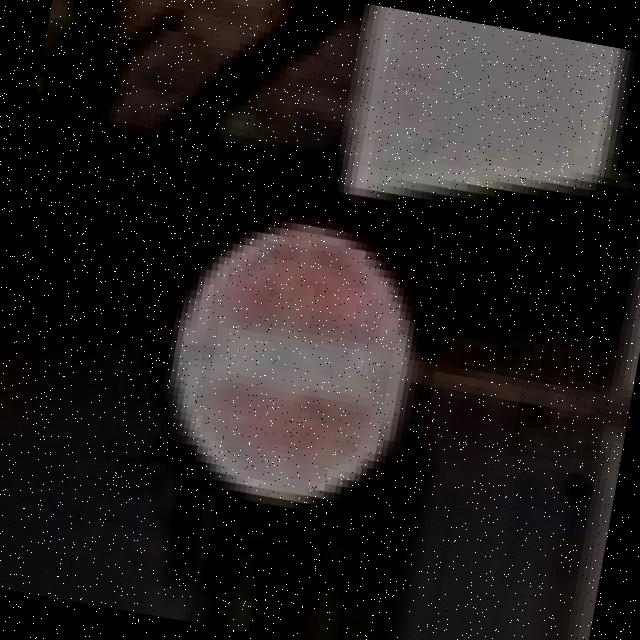Zakaz wjazdu: (151, 198, 435, 524)
